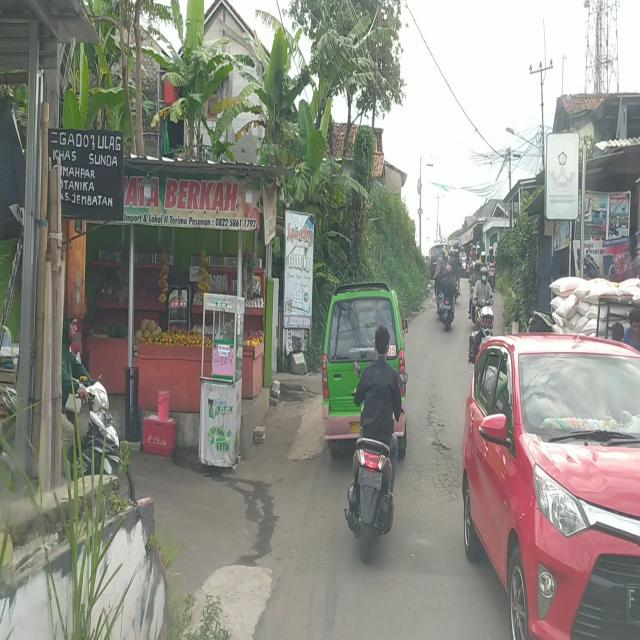Drain Hole: (413, 383, 462, 502)
